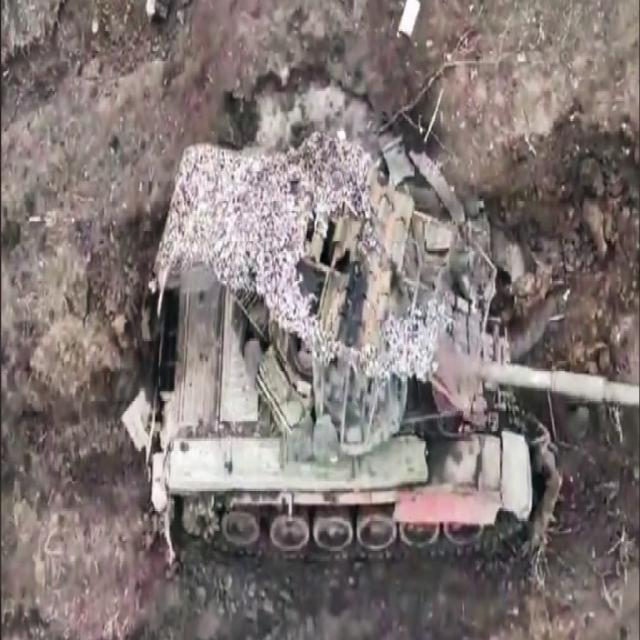TANK: (146, 122, 638, 557)
